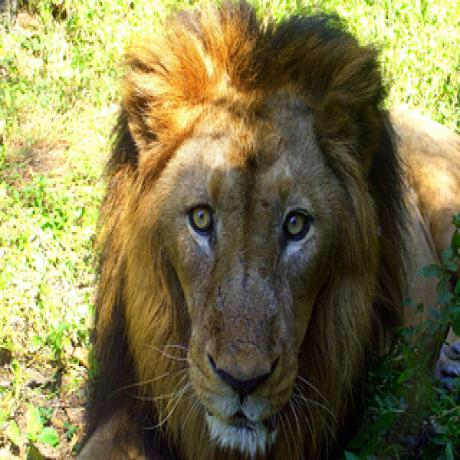Lion: (83, 3, 460, 460)
